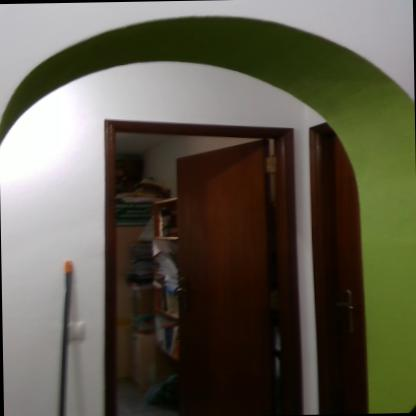open: (80, 110, 311, 415)
